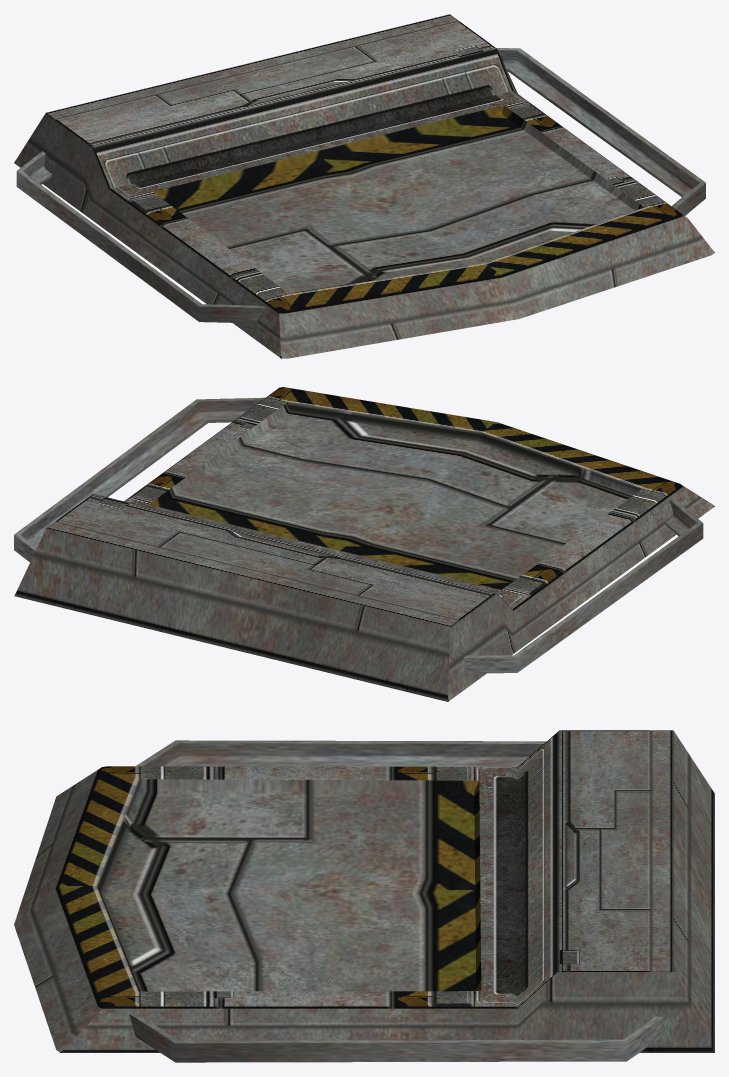
Rendered from SFportal.FBX.
3 views of the same model, one above another, from view 1: azimuth 30°, elevation 25°; view 2: azimuth 150°, elevation 25°; view 3: azimuth 270°, elevation 25° (orthographic). The views are drawn at different scales.
Visible parts, largest first — view 1: portal; view 2: portal; view 3: portal.
Boxes of the visible parts, bbox=[...] form: portal: bbox=[14, 14, 714, 358]; portal: bbox=[14, 387, 714, 701]; portal: bbox=[14, 730, 714, 1062].
Bounding box in the file's own units: 54.78 × 6.09 × 53.56.
1 material, 1 textured.
